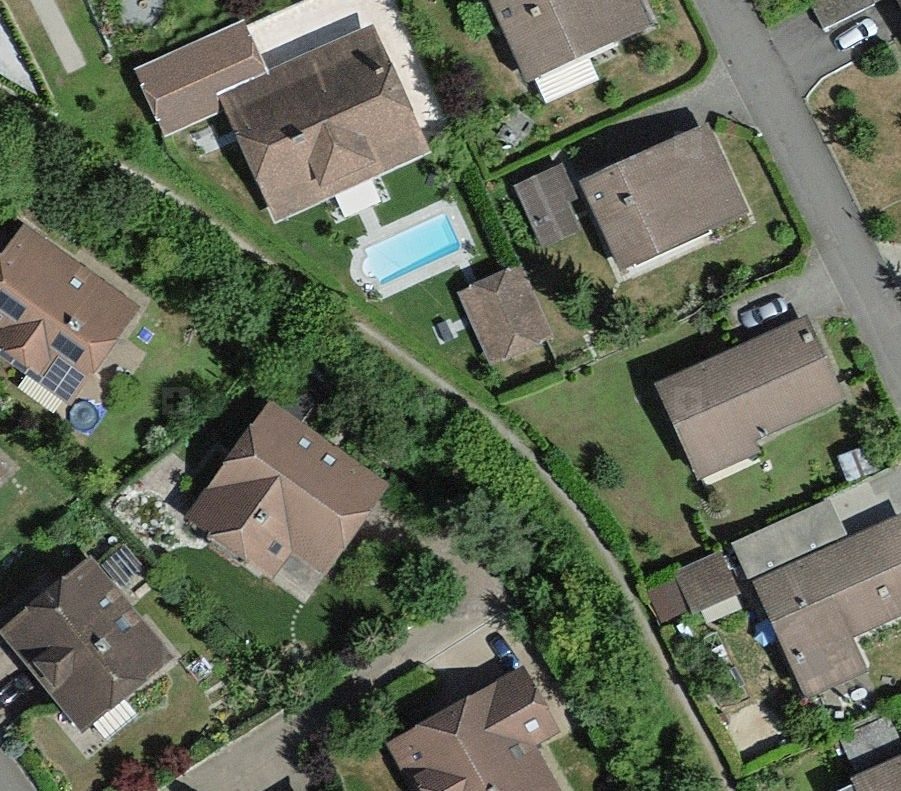solar: (40, 357, 86, 405)
